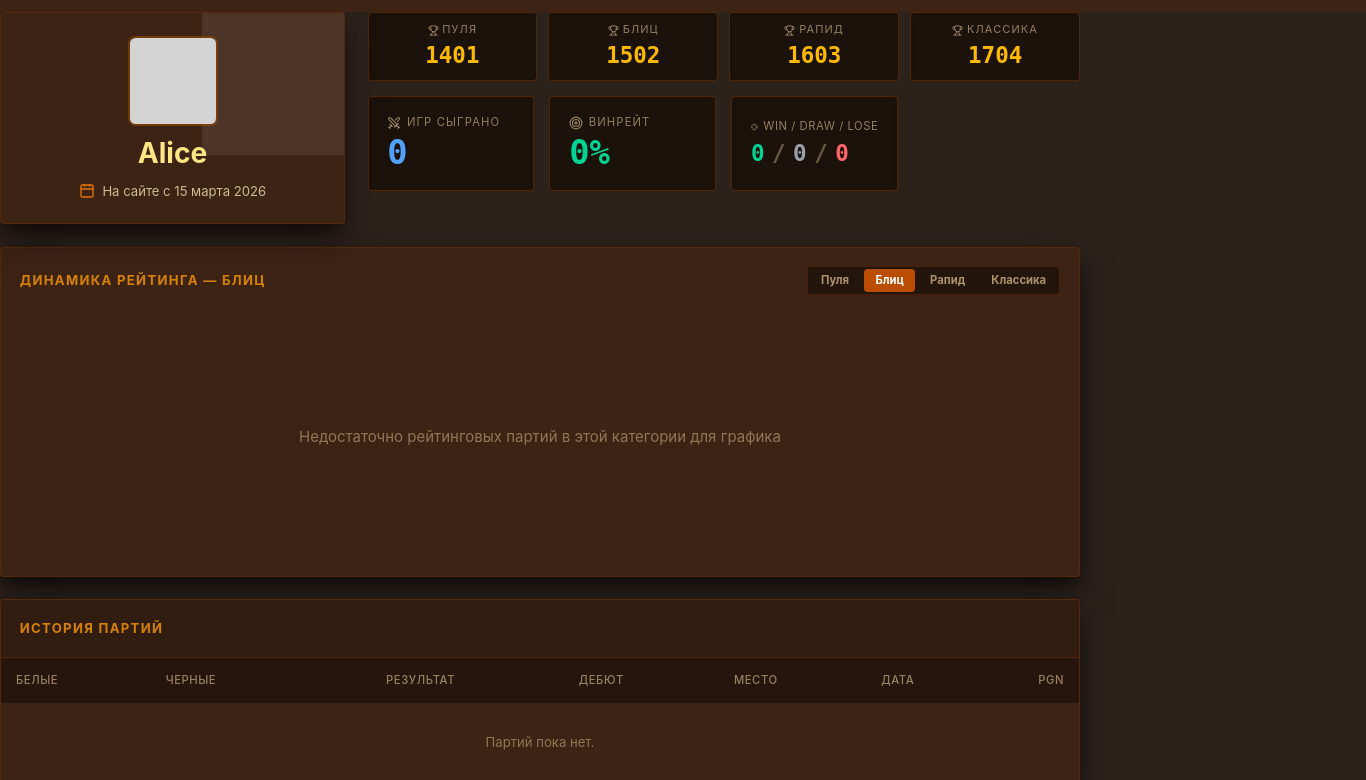
Test case: Profile: итоги и история рейтинга › переключение категории запрашивает её историю
The width and height of the screenshot is (1366, 780).
Expected: the heading "Динамика рейтинга — блиц" is shown, [20,271,266,290]
Step 1. Click the button "Пуля" → (835, 280), box [810,269,860,292]
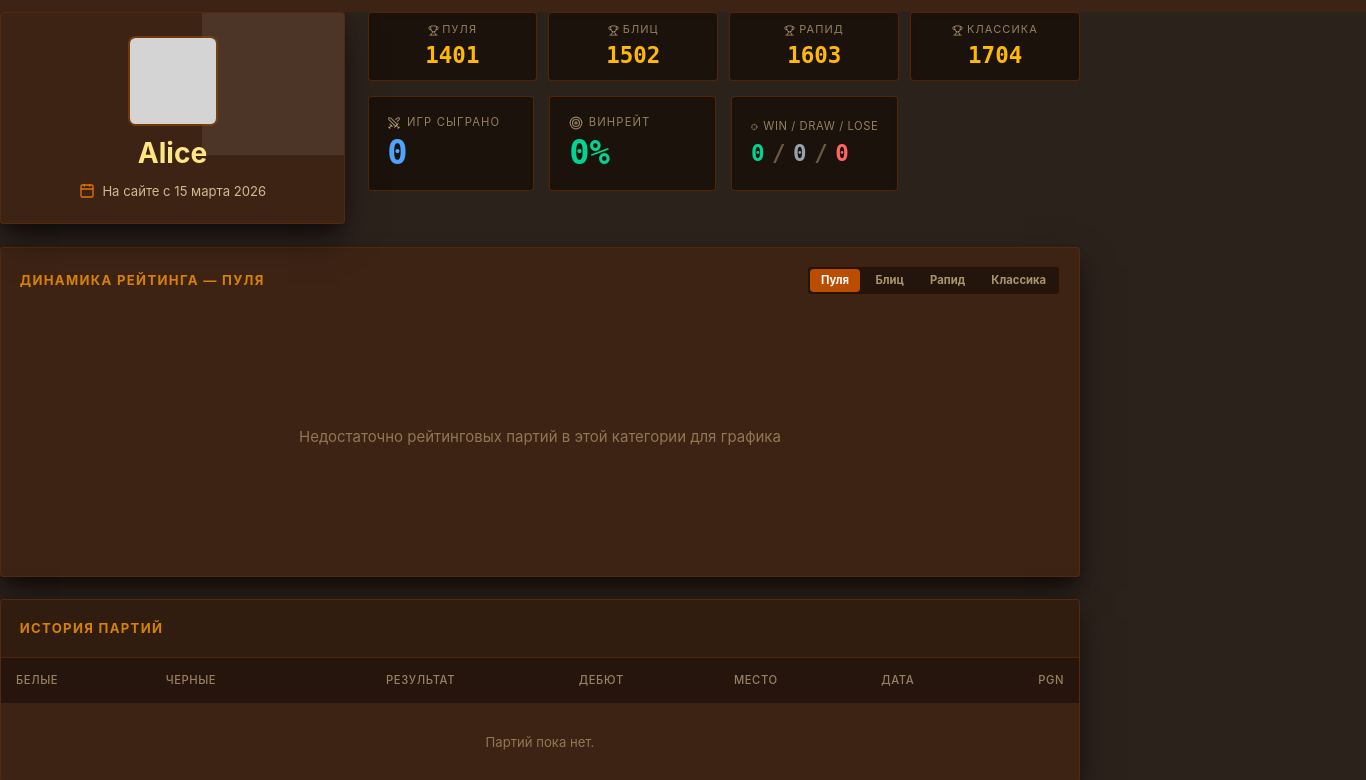
Result: the heading "Динамика рейтинга — пуля" is shown at [20,271,265,290]
